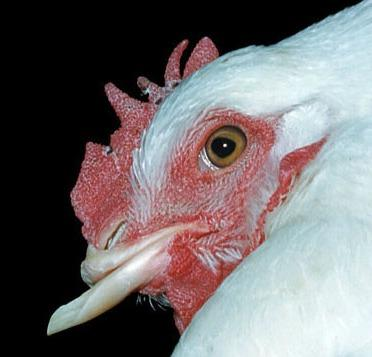AbNormal: (72, 32, 219, 240)
